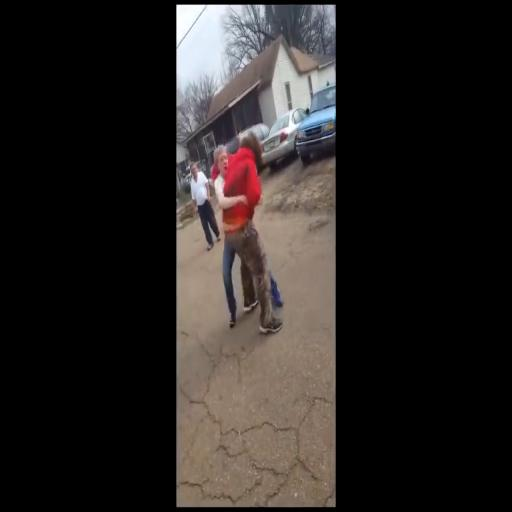violencia: (204, 127, 297, 353)
